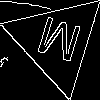M: (32, 16, 84, 71)
